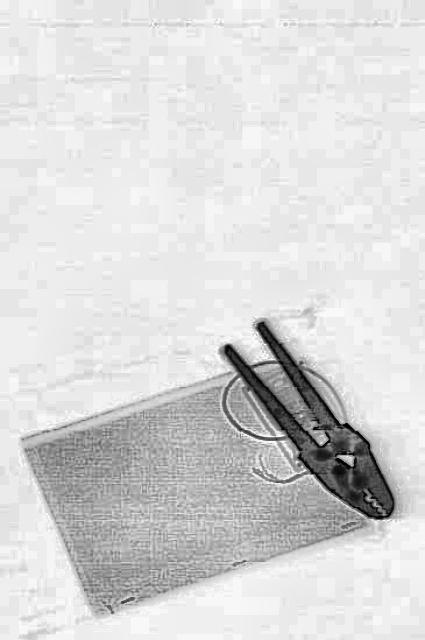Pliers: (218, 292, 406, 548)
